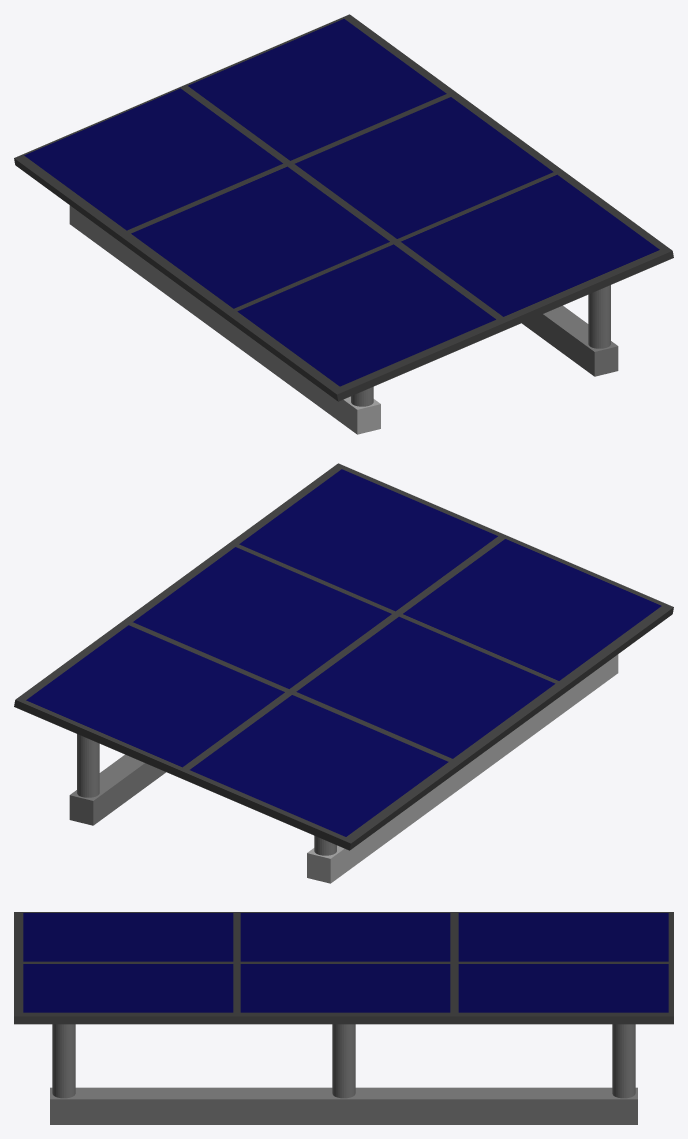
The model's file is sun-panel.glb.
3 renders of one model, top to bottom at view 1: azimuth 30°, elevation 25°; view 2: azimuth 150°, elevation 25°; view 3: azimuth 270°, elevation 25°, orthographic. The views are drawn at different scales.
Visible parts, largest first — view 1: 立方体, 平面.006, 平面.001, 平面.002, 平面.005, 平面.003, 平面.004, 立方体.002, 立方体.001, 円柱.002; view 2: 立方体, 平面.005, 平面.002, 平面.003, 平面.004, 平面.006, 平面.001, 立方体.002, 立方体.001, 円柱.003; view 3: 立方体.001, 立方体, 平面.001, 平面.002, 平面.003, 平面.004, 平面.005, 平面.006, 円柱.002, 円柱.003, 円柱.004.
Boxes of the visible parts, box(x1,y1,x2,y2) form: 立方体: box(14, 14, 673, 401); 平面.006: box(237, 244, 495, 386); 平面.001: box(188, 19, 446, 160); 平面.002: box(295, 97, 553, 238); 平面.005: box(131, 166, 389, 308); 平面.003: box(401, 174, 659, 316); 平面.004: box(24, 88, 282, 230); 立方体.002: box(69, 205, 380, 434); 立方体.001: box(522, 305, 618, 376); 円柱.002: box(588, 285, 610, 348); 立方体: box(14, 463, 673, 850); 平面.005: box(296, 616, 555, 758); 平面.002: box(133, 547, 391, 688); 平面.003: box(239, 469, 497, 611); 平面.004: box(190, 695, 448, 836); 平面.006: box(403, 539, 661, 680); 平面.001: box(26, 625, 284, 767); 立方体.002: box(307, 654, 618, 883); 立方体.001: box(69, 754, 165, 825); 円柱.003: box(77, 734, 99, 797); 立方体.001: box(50, 1087, 637, 1124); 立方体: box(14, 912, 673, 1024); 平面.001: box(458, 964, 668, 1012); 平面.002: box(240, 964, 450, 1012); 平面.003: box(23, 964, 233, 1012); 平面.004: box(458, 913, 668, 961); 平面.005: box(240, 913, 450, 961); 平面.006: box(23, 913, 233, 961); 円柱.002: box(52, 1024, 75, 1098); 円柱.003: box(612, 1024, 635, 1098); 円柱.004: box(332, 1024, 355, 1098).
Size of the model in its own units: 2.84 by 1 by 4.72.
